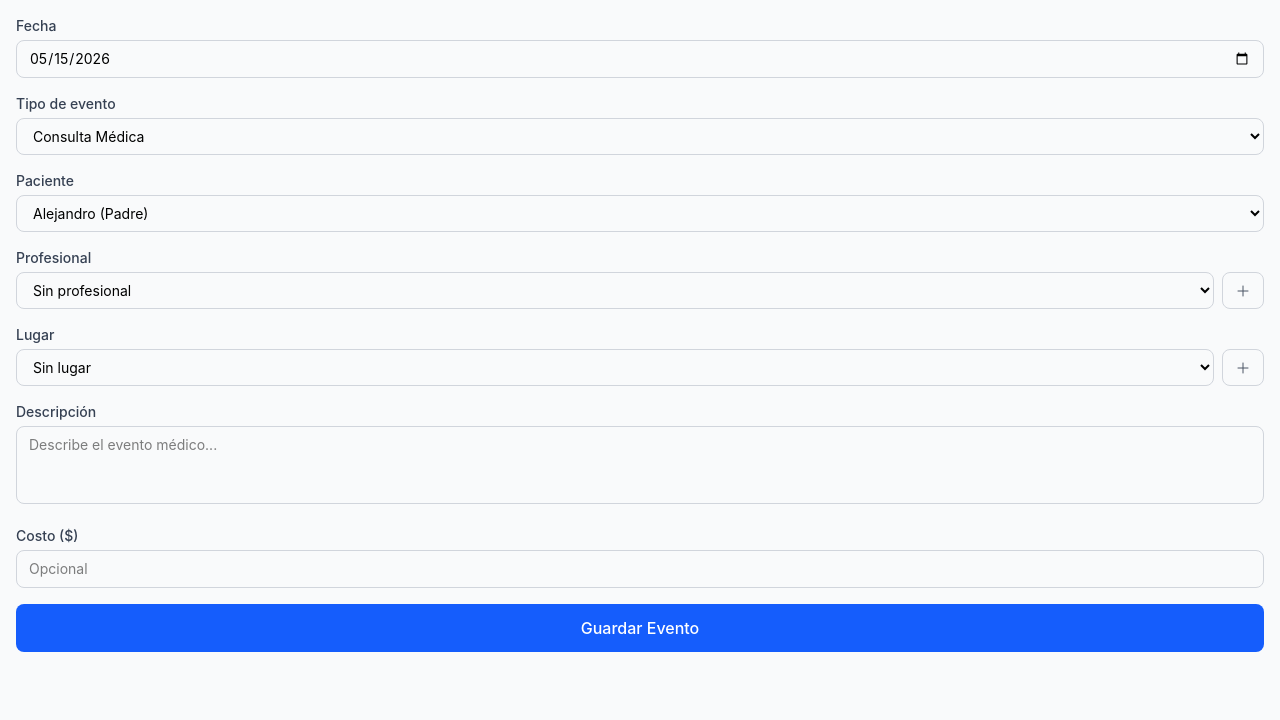
NuevoEventoPage › should show success message when event is created
In the text box labelled "Descripción": (640, 465) [16,426,1264,504], type "Test evento"
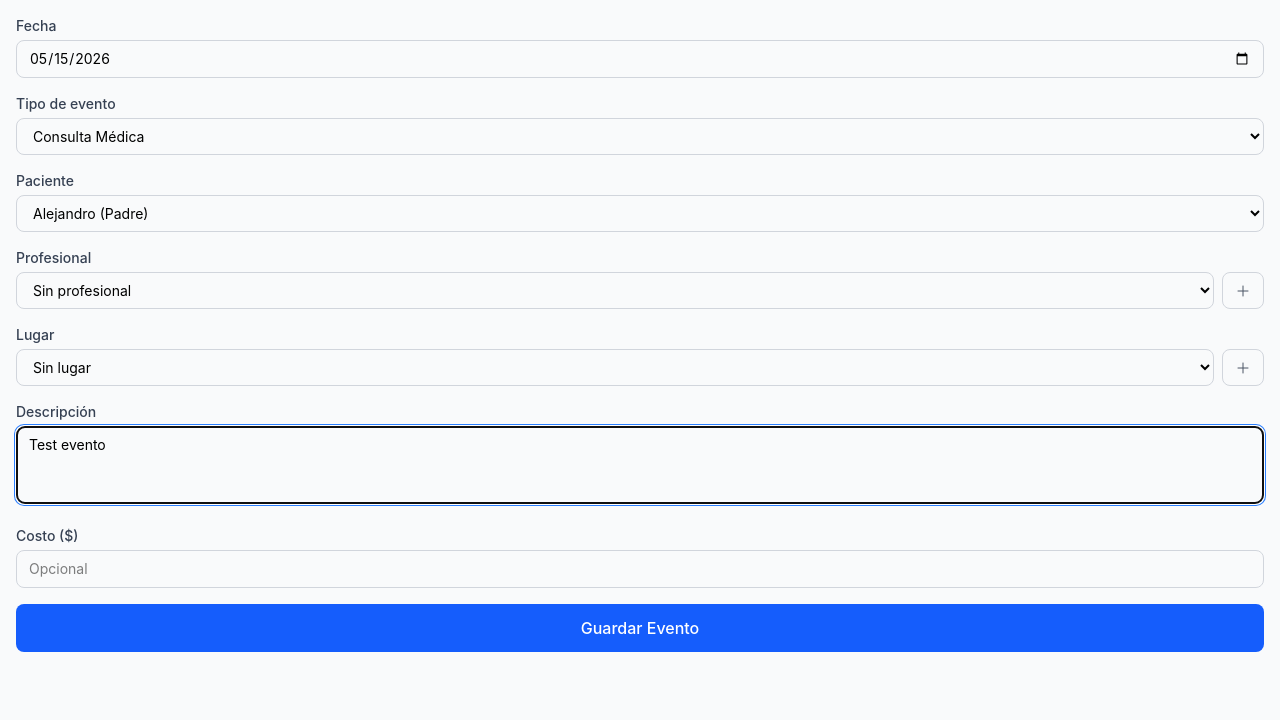
Click the button "Guardar Evento": (640, 628) [16,604,1264,652]
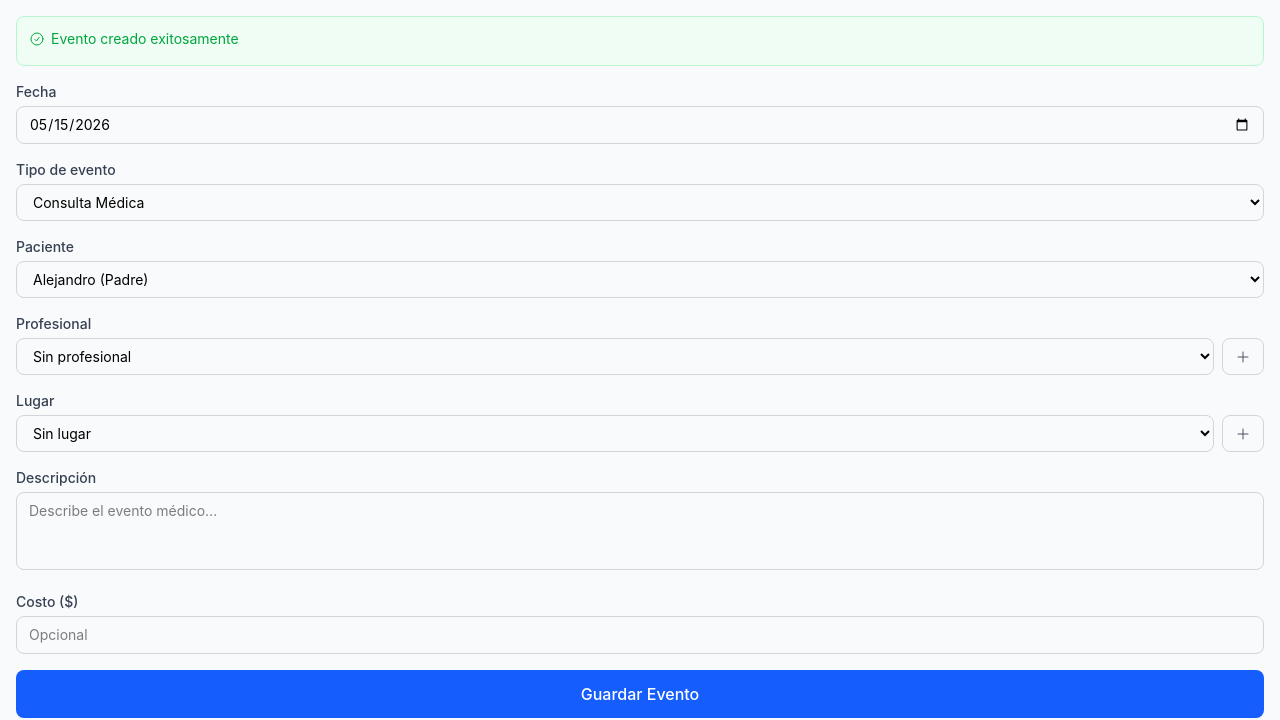
Result: the text "Evento creado exitosamente" is shown at [29,29,239,49]
